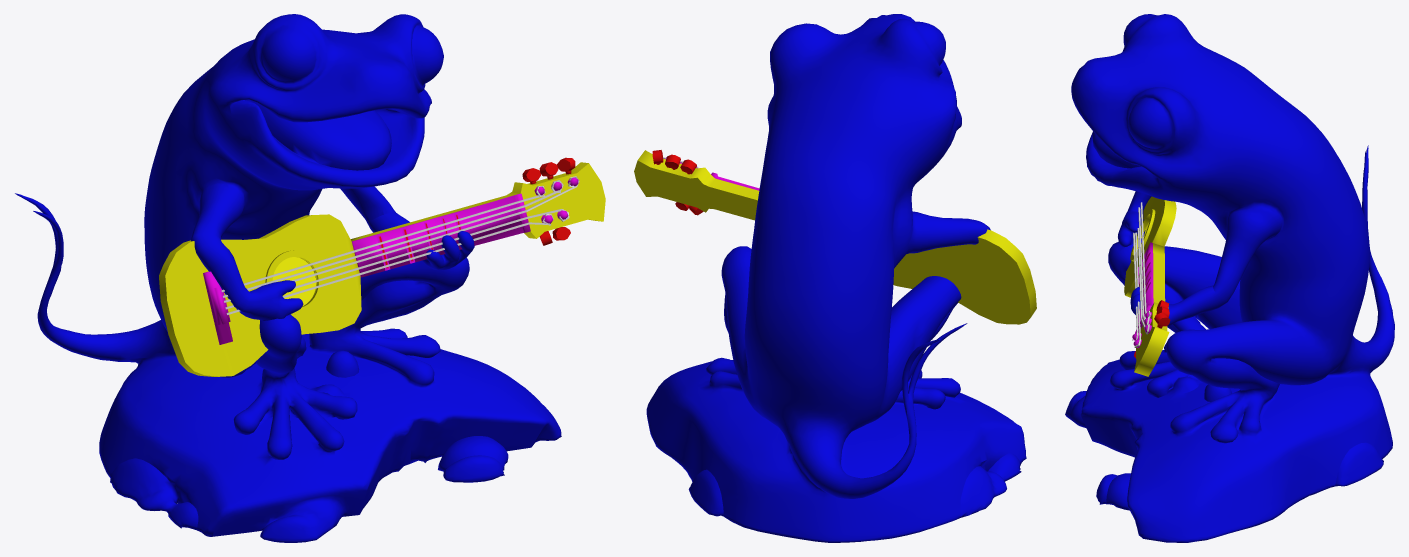
File: leon.glb
3 views of the same model, side by side, from view 1: azimuth 30°, elevation 25°; view 2: azimuth 150°, elevation 25°; view 3: azimuth 270°, elevation 25° (orthographic). The views are drawn at different scales.
Visible parts, largest first — view 1: Leon; view 2: Leon; view 3: Leon.
Boxes of the visible parts, x1,y1,x2,y2 form: Leon: (15,14,605,542); Leon: (634,14,1036,542); Leon: (1065,14,1394,542).
Bounding box in the file's own units: 9.19 × 8.96 × 6.48.
